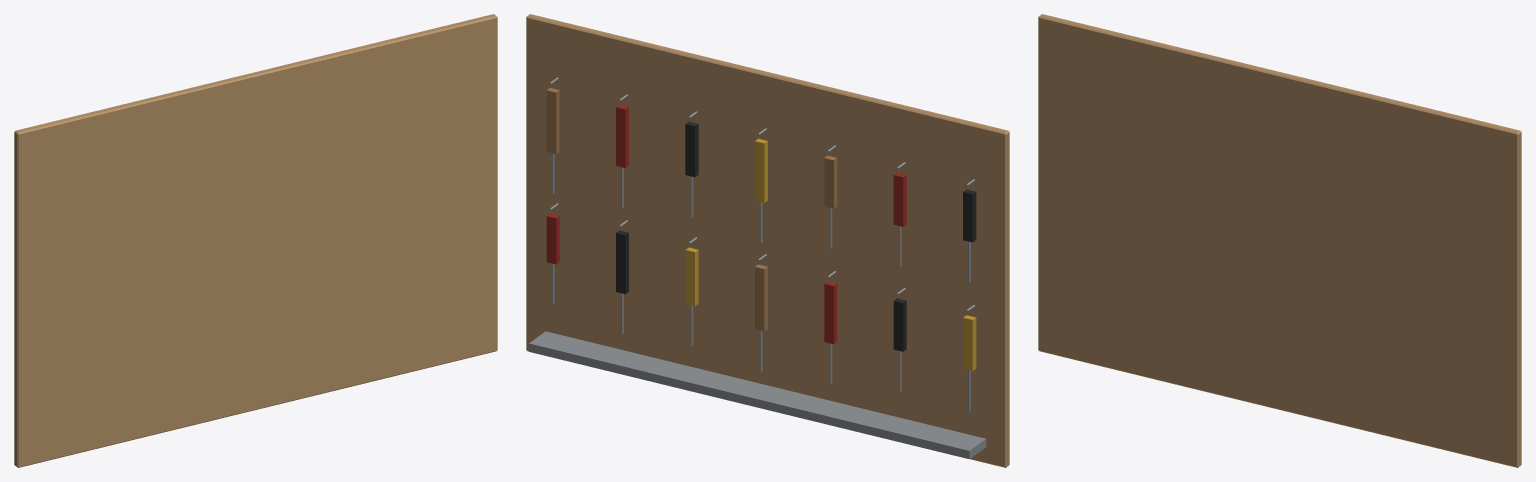
File: prop_tool_wall.glb
The picture shows the model from 3 angles, left to right: view 1: azimuth 30°, elevation 25°; view 2: azimuth 150°, elevation 25°; view 3: azimuth 330°, elevation 25°; orthographic projection.
Parts seen in each view (by area): view 1: ToolWall; view 2: ToolWall; view 3: ToolWall.
Part boxes in pixels (bbox=[...]): ToolWall: bbox=[14, 14, 497, 467]; ToolWall: bbox=[526, 14, 1009, 467]; ToolWall: bbox=[1038, 14, 1521, 467].
Bounding box in the file's own units: 1.2 × 0.8 × 0.09.
